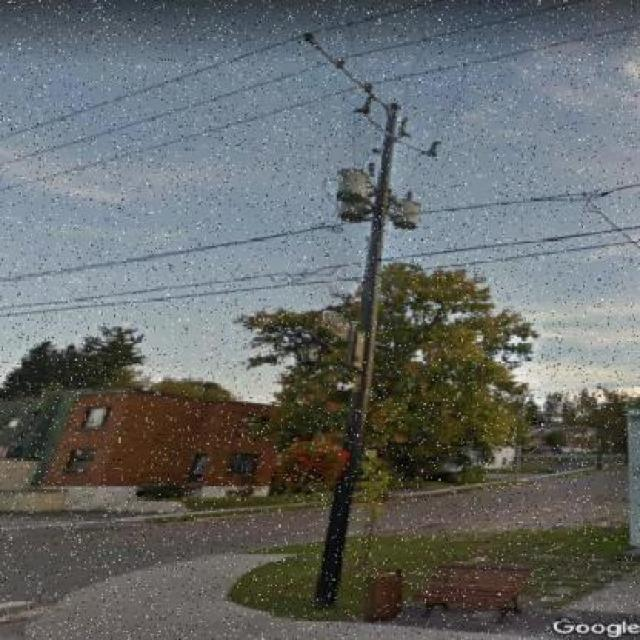pole: (290, 22, 444, 636)
